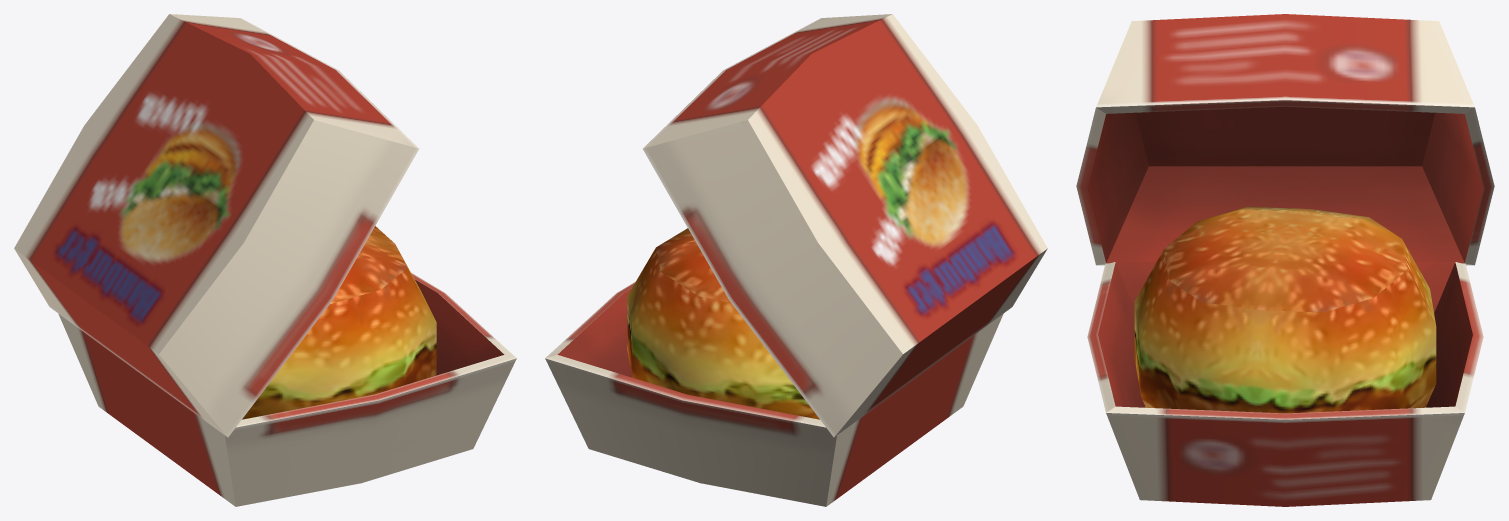
Rendered from HuShiZhan_01_hanbao_01_uv2.fbx.
3 renders of one model, left to right at view 1: azimuth 30°, elevation 25°; view 2: azimuth 150°, elevation 25°; view 3: azimuth 270°, elevation 25°, orthographic. The views are drawn at different scales.
Visible parts, largest first — view 1: HuShiZhan_01_hanbao_01; view 2: HuShiZhan_01_hanbao_01; view 3: HuShiZhan_01_hanbao_01.
Boxes of the visible parts, x1,y1,x2,y2 form: HuShiZhan_01_hanbao_01: (14, 14, 516, 506); HuShiZhan_01_hanbao_01: (545, 14, 1047, 506); HuShiZhan_01_hanbao_01: (1076, 14, 1494, 506).
Size of the model in its own units: 86.72 by 88.26 by 82.39.
